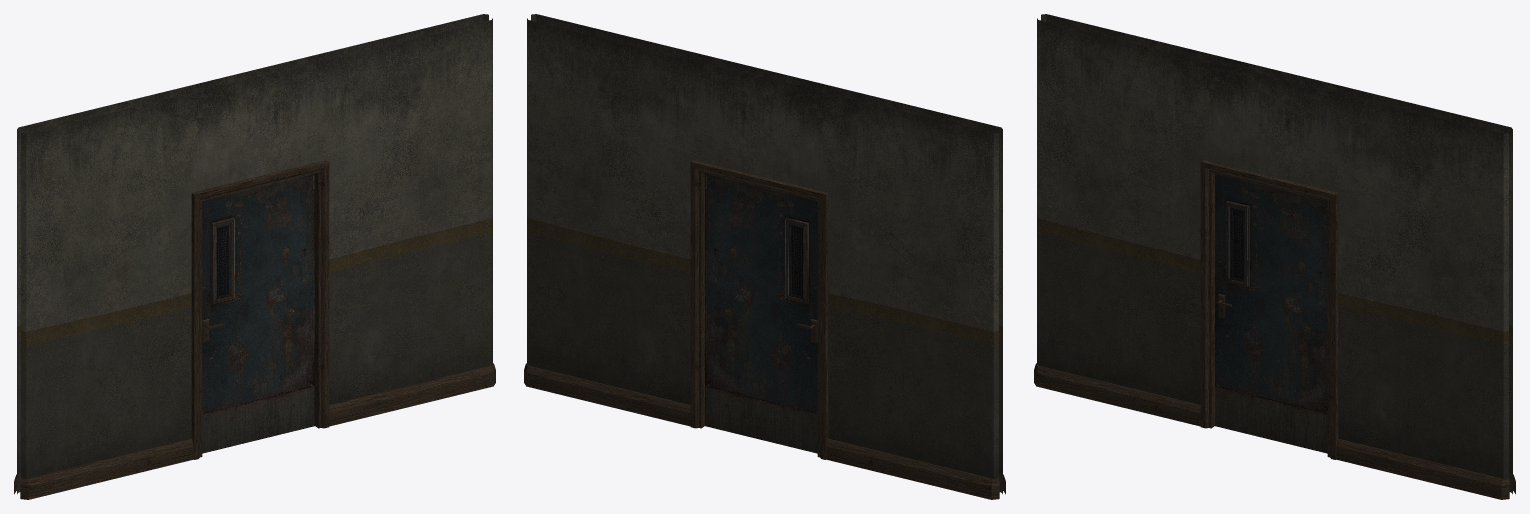
File: doorway_1_1.glb
3 renders of one model, left to right at view 1: azimuth 30°, elevation 25°; view 2: azimuth 150°, elevation 25°; view 3: azimuth 330°, elevation 25°, orthographic.
Visible parts, largest first — view 1: doorway_1_1, door_3; view 2: doorway_1_1, door_3; view 3: doorway_1_1, door_3.
Part boxes in pixels (<box>): doorway_1_1: <box>14,14,495,499</box>; door_3: <box>202,174,314,453</box>; doorway_1_1: <box>524,14,1005,499</box>; door_3: <box>705,174,817,453</box>; doorway_1_1: <box>1034,14,1515,499</box>; door_3: <box>1215,174,1327,453</box>.
Size of the model in its own units: 4.09 by 3 by 0.2.
Materials: 4 (4 with a texture image).
